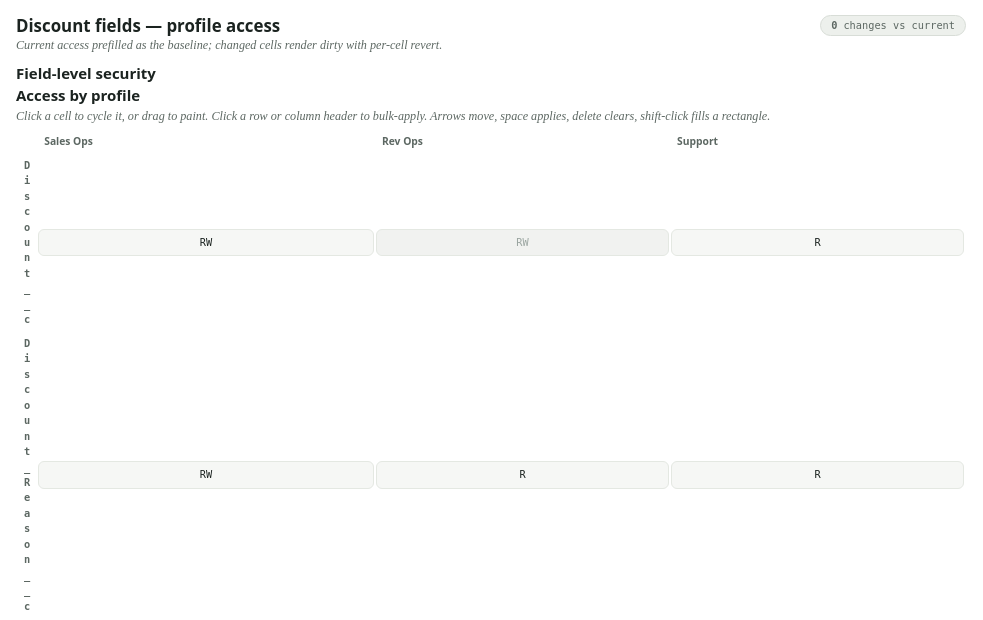
Scenario: header bulk apply (§5.5) › skips a read-only cell in a row bulk, and counts it
The image size is (983, 620).
Note: Discount__c holds rw / rw / r, and its rev_ops cell is read-only.
Click the button "Discount__c" at [27, 243], box [18,155,36,331]
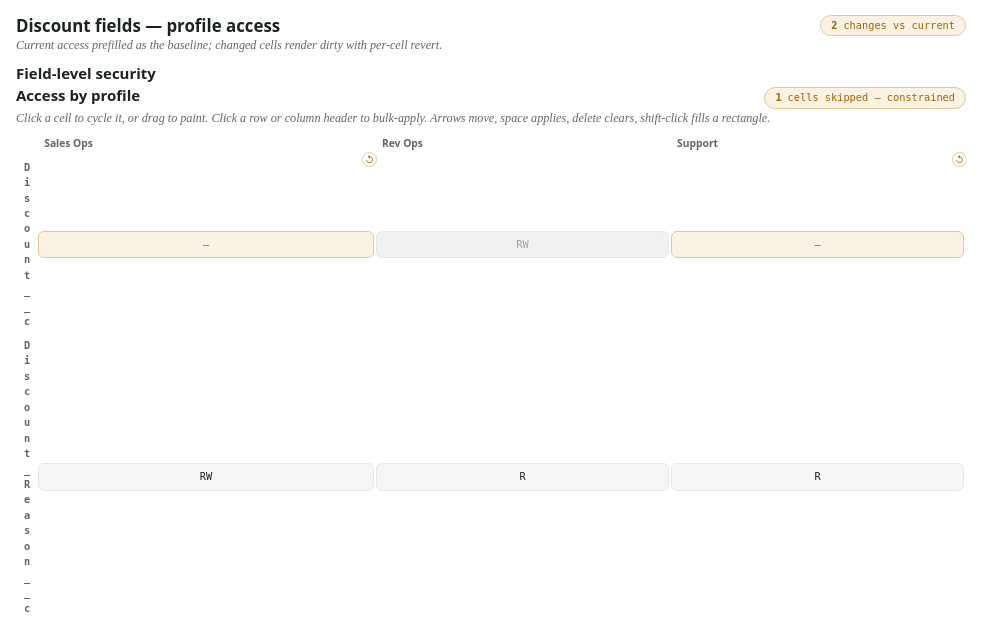
expect the element labelled "1 cells skipped — constrained" is shown: met, box [764,87,966,109]
